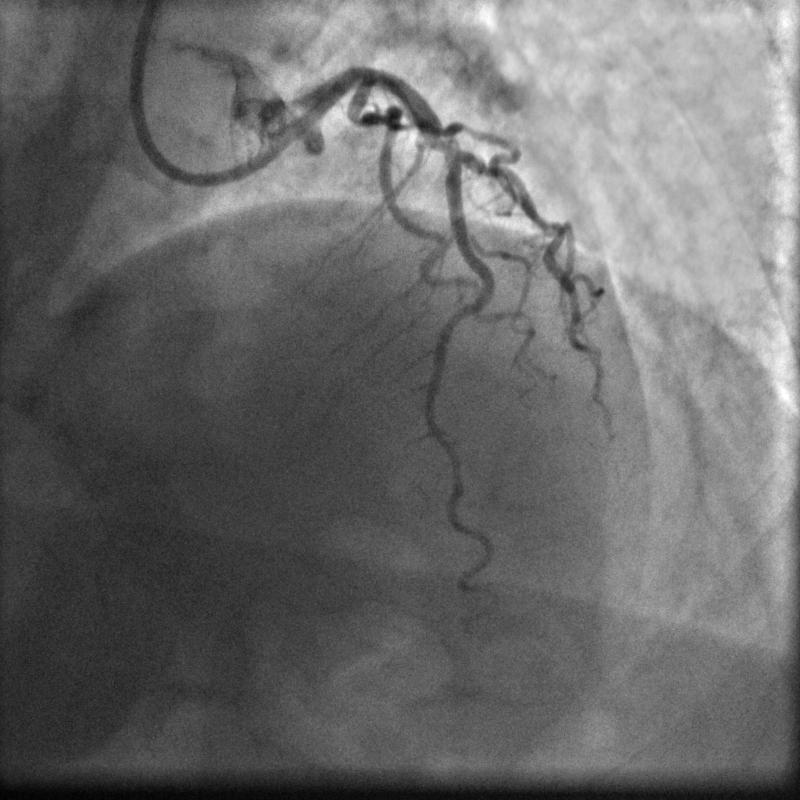Stenosis: (421, 133, 466, 160)
